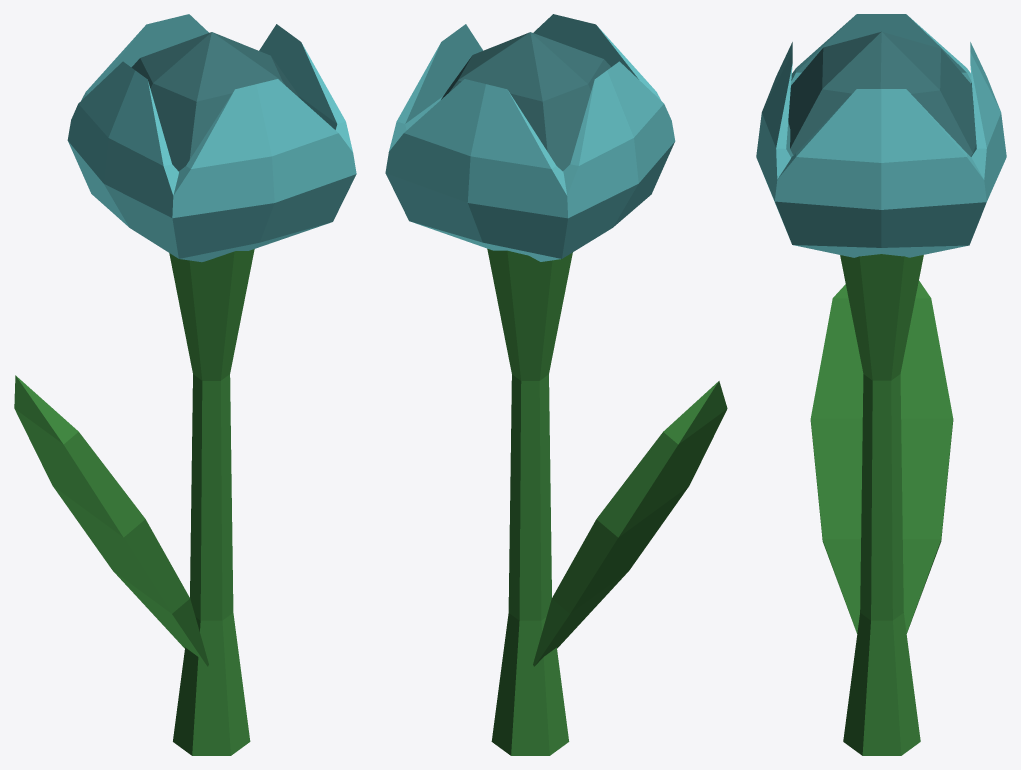
The model's file is Flower_3_Cyan.fbx.
3 views of the same model, side by side, from view 1: azimuth 30°, elevation 25°; view 2: azimuth 150°, elevation 25°; view 3: azimuth 270°, elevation 25° (orthographic).
Visible parts, largest first — view 1: Flower_3_Cyan_Part_2, Flower_3_Cyan_Part_1, Flower_3_Cyan_Part_3; view 2: Flower_3_Cyan_Part_2, Flower_3_Cyan_Part_1, Flower_3_Cyan_Part_3; view 3: Flower_3_Cyan_Part_1, Flower_3_Cyan_Part_2, Flower_3_Cyan_Part_3.
Boxes of the visible parts, x1,y1,x2,y2 form: Flower_3_Cyan_Part_2: (67, 14, 356, 262); Flower_3_Cyan_Part_1: (14, 249, 254, 755); Flower_3_Cyan_Part_3: (131, 32, 299, 171); Flower_3_Cyan_Part_2: (385, 14, 675, 261); Flower_3_Cyan_Part_1: (487, 248, 727, 755); Flower_3_Cyan_Part_3: (441, 32, 610, 171); Flower_3_Cyan_Part_1: (810, 254, 953, 755); Flower_3_Cyan_Part_2: (756, 14, 1006, 257); Flower_3_Cyan_Part_3: (788, 31, 976, 156).
Size of the model in its own units: 24.43 by 55 by 17.59.
